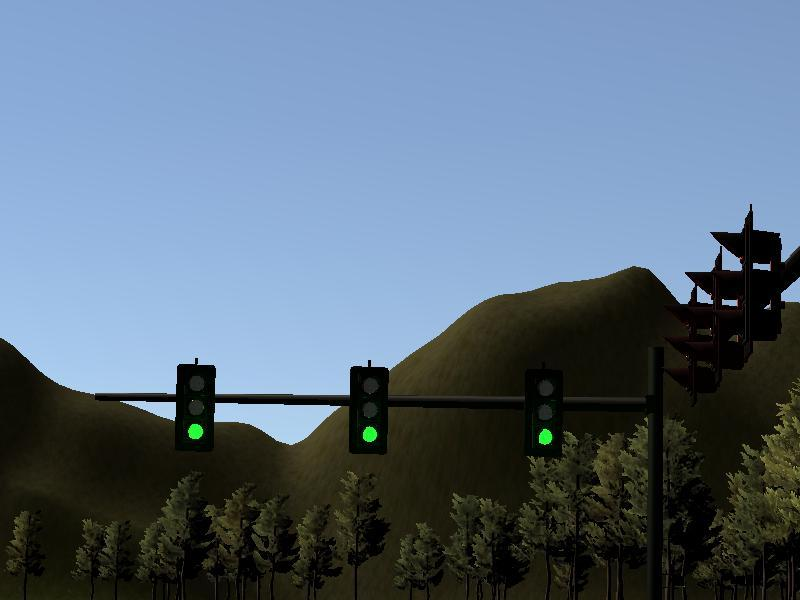Green: (175, 365, 214, 451), (523, 369, 562, 455), (348, 367, 387, 453)
